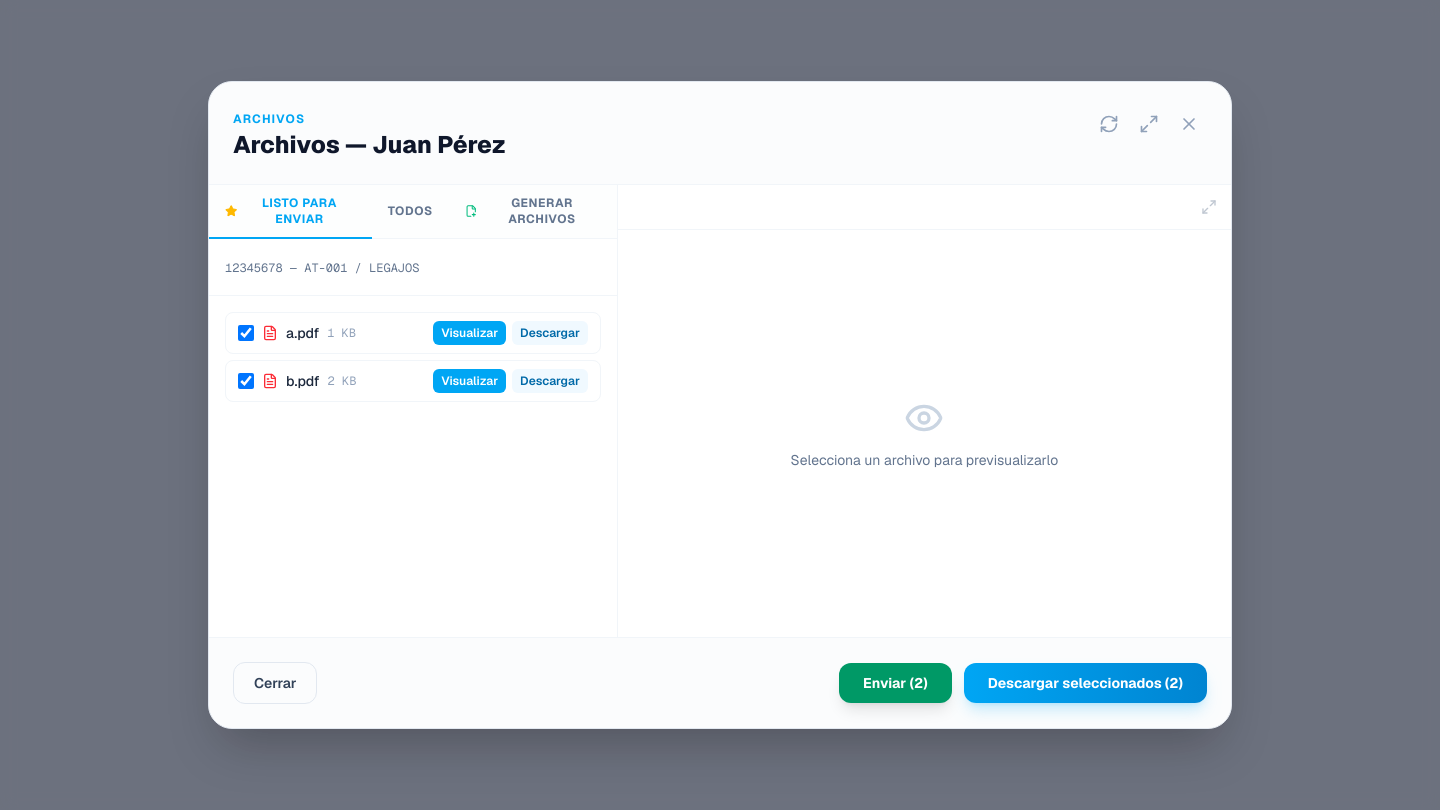
FilesModal › updates the "Enviar" counter live when a ready-pane checkbox is toggled (uncheck + recheck)
Expected: the button with test id "files-modal-send" reads "Enviar (2)", [839, 663, 952, 703]
# Uncheck the first file → counter drops to 1.
Step 1. Click the checkbox labelled "a.pdf 1 KB" → (246, 333), box [238, 325, 254, 341]
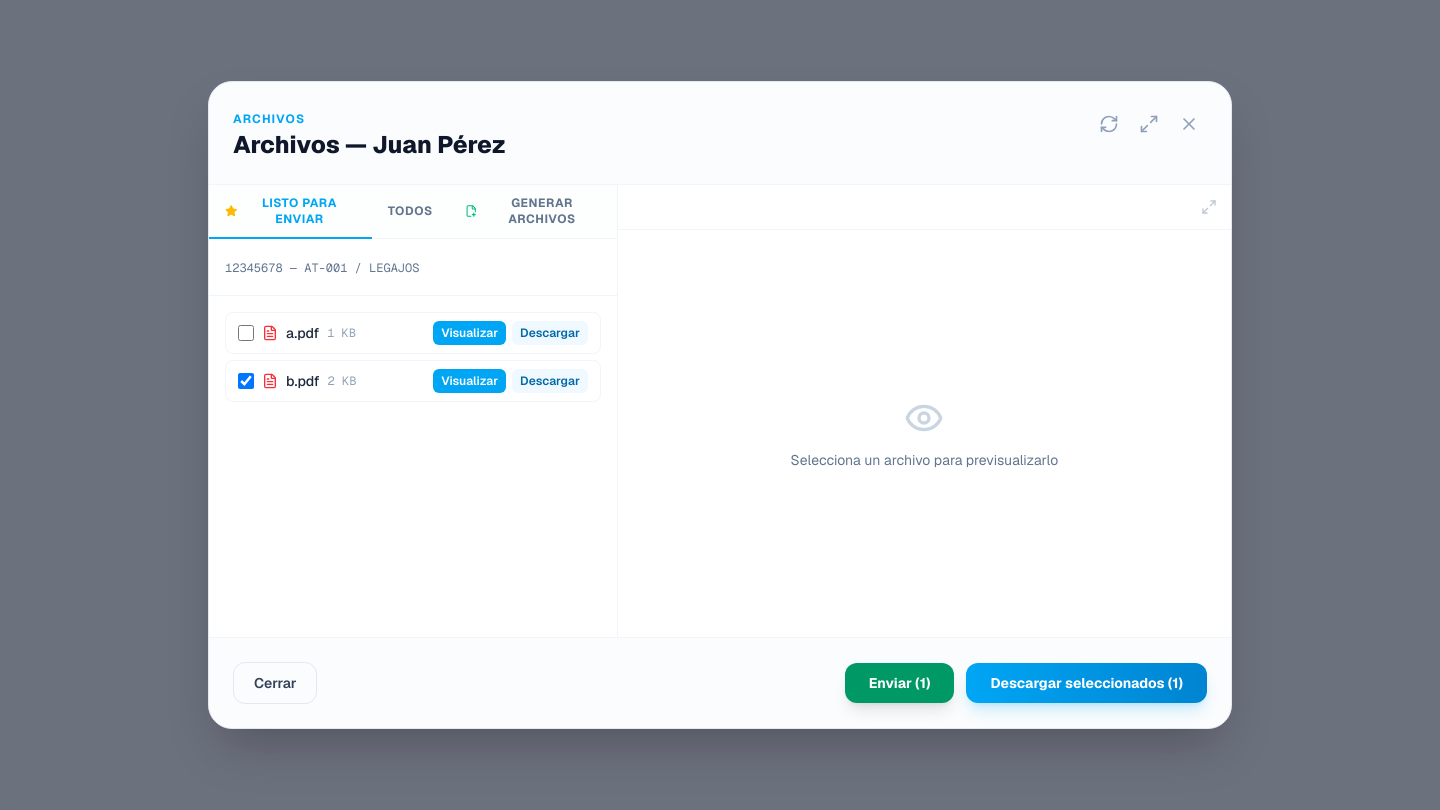
Expected: the checkbox labelled "b.pdf 2 KB" is checked, [238, 373, 254, 389]
Expected: the checkbox labelled "a.pdf 1 KB" is not checked
Expected: the button with test id "files-modal-send" reads "Enviar (1)", [845, 663, 954, 703]
Step 2. Click the checkbox labelled "a.pdf 1 KB" → (246, 333), box [238, 325, 254, 341]
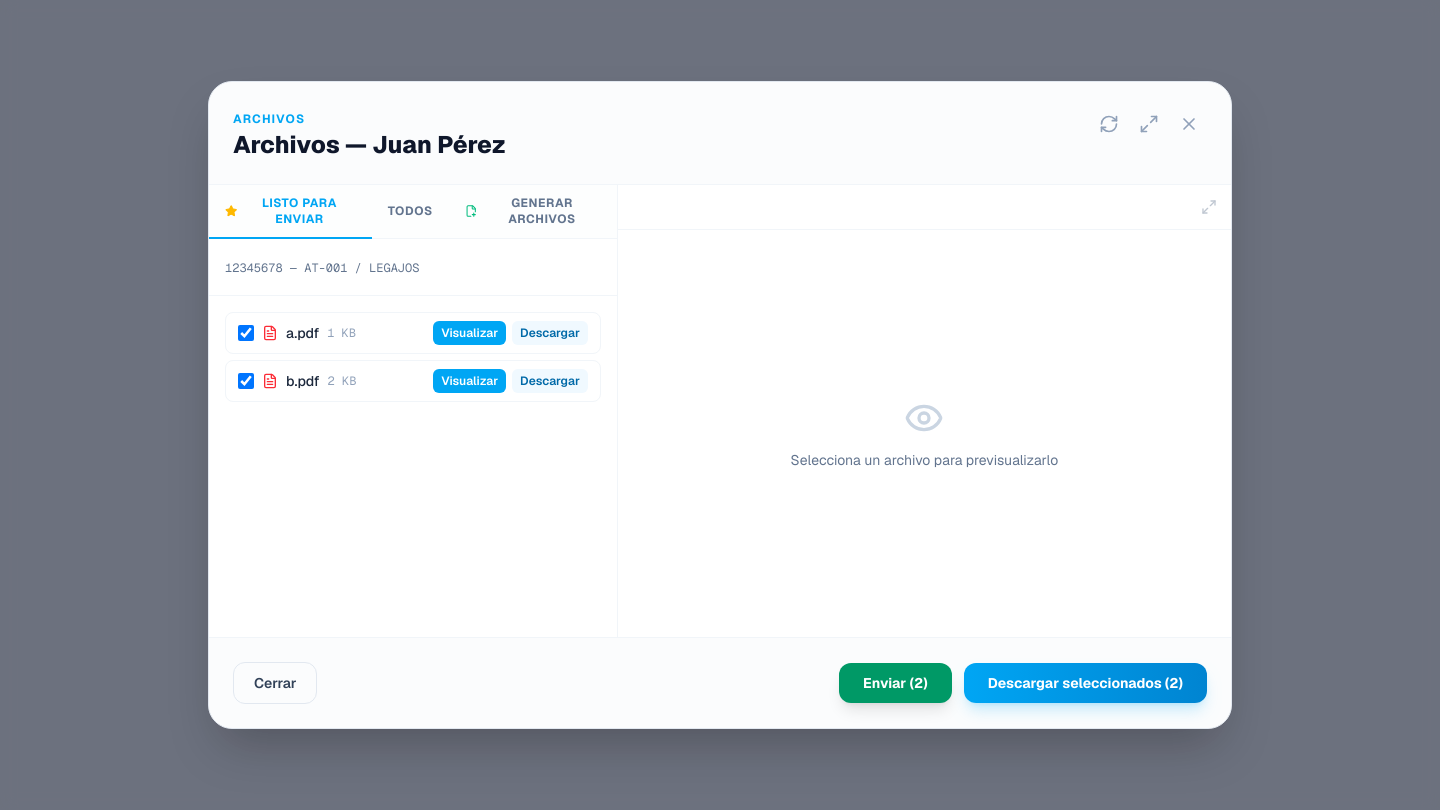
Expected: the checkbox labelled "a.pdf 1 KB" is checked, [238, 325, 254, 341]
Expected: the button with test id "files-modal-send" reads "Enviar (2)", [839, 663, 952, 703]
